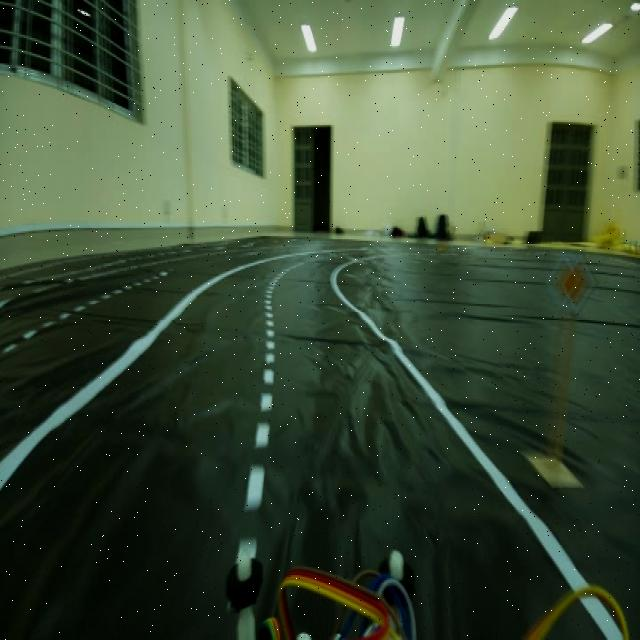priority: (554, 245, 591, 318)
